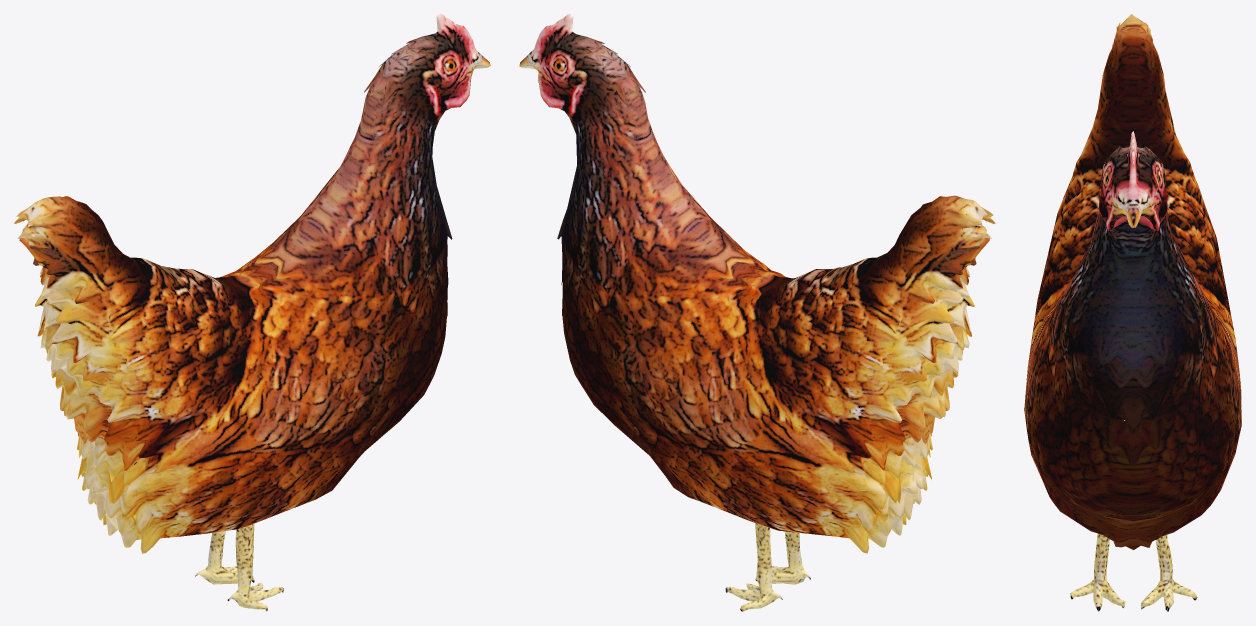
File: chicken.glb
3 views of the same model, side by side, from view 1: azimuth 30°, elevation 25°; view 2: azimuth 150°, elevation 25°; view 3: azimuth 270°, elevation 25° (orthographic). The views are drawn at different scales.
Parts seen in each view (by area): view 1: Object_2; view 2: Object_2; view 3: Object_2.
Part boxes in pixels (x1,y1,x2,y2): Object_2: (14, 14, 490, 611); Object_2: (519, 14, 995, 611); Object_2: (1024, 14, 1241, 611).
Bounding box in the file's own units: 3.29 × 3.49 × 1.19.
Materials: 1 (1 with a texture image).
